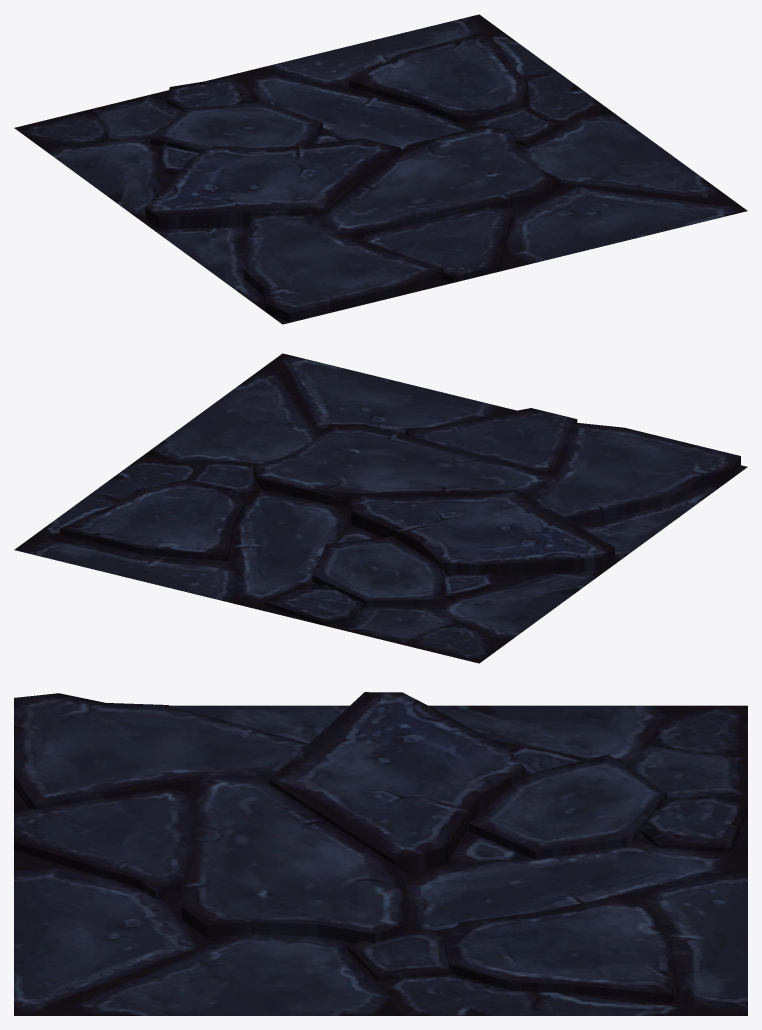
File: palace_floor_blank_08.fbx
3 renders of one model, top to bottom at view 1: azimuth 30°, elevation 25°; view 2: azimuth 150°, elevation 25°; view 3: azimuth 270°, elevation 25°, orthographic. The views are drawn at different scales.
Visible parts, largest first — view 1: palace_tileset/palace_floor01_shadow_mat; view 2: palace_tileset/palace_floor01_shadow_mat; view 3: palace_tileset/palace_floor01_shadow_mat.
Part boxes in pixels (x1=…): palace_tileset/palace_floor01_shadow_mat: x1=14, y1=14, x2=747, y2=324; palace_tileset/palace_floor01_shadow_mat: x1=14, y1=353, x2=747, y2=663; palace_tileset/palace_floor01_shadow_mat: x1=14, y1=692, x2=747, y2=1015.
Bounding box in the file's own units: 4 × 0.1 × 4.
